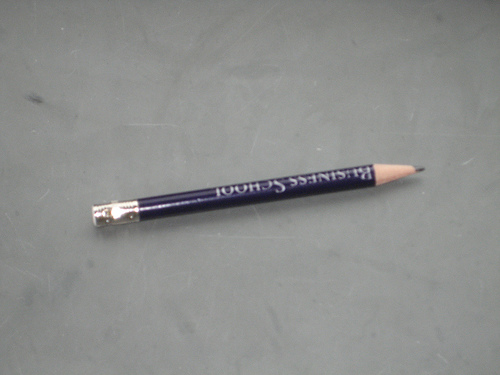pen_tip: (362, 157, 439, 192)
